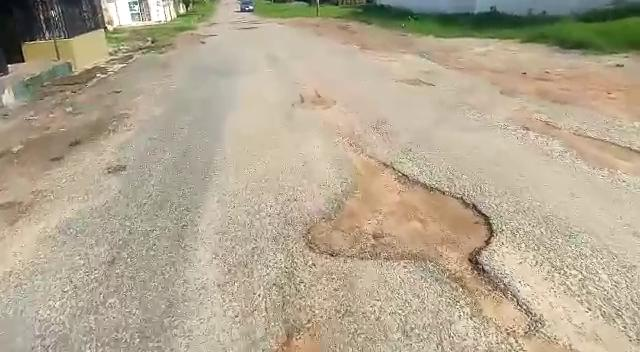pothole: (302, 159, 502, 273), (499, 112, 640, 187)
